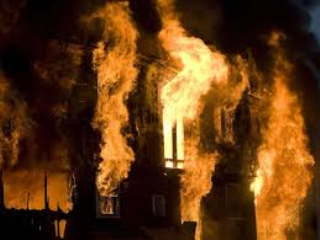fire: (78, 12, 315, 211)
